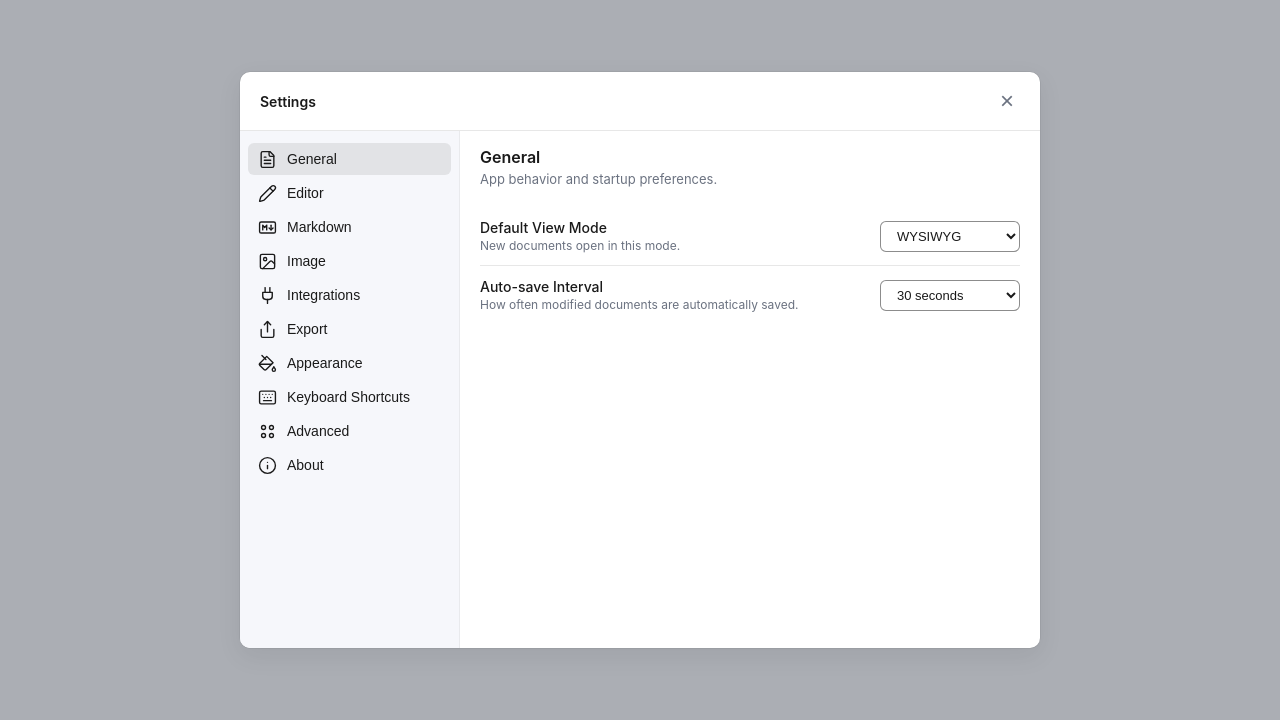
Test case: MCP-FIX-C2 server info renders only with a bound port › C2-01 launch starting with no port shows no Listening-on row and no port hint
The image size is (1280, 720).
Click the button "Integrations" at (350, 295), box [248,279,451,311]
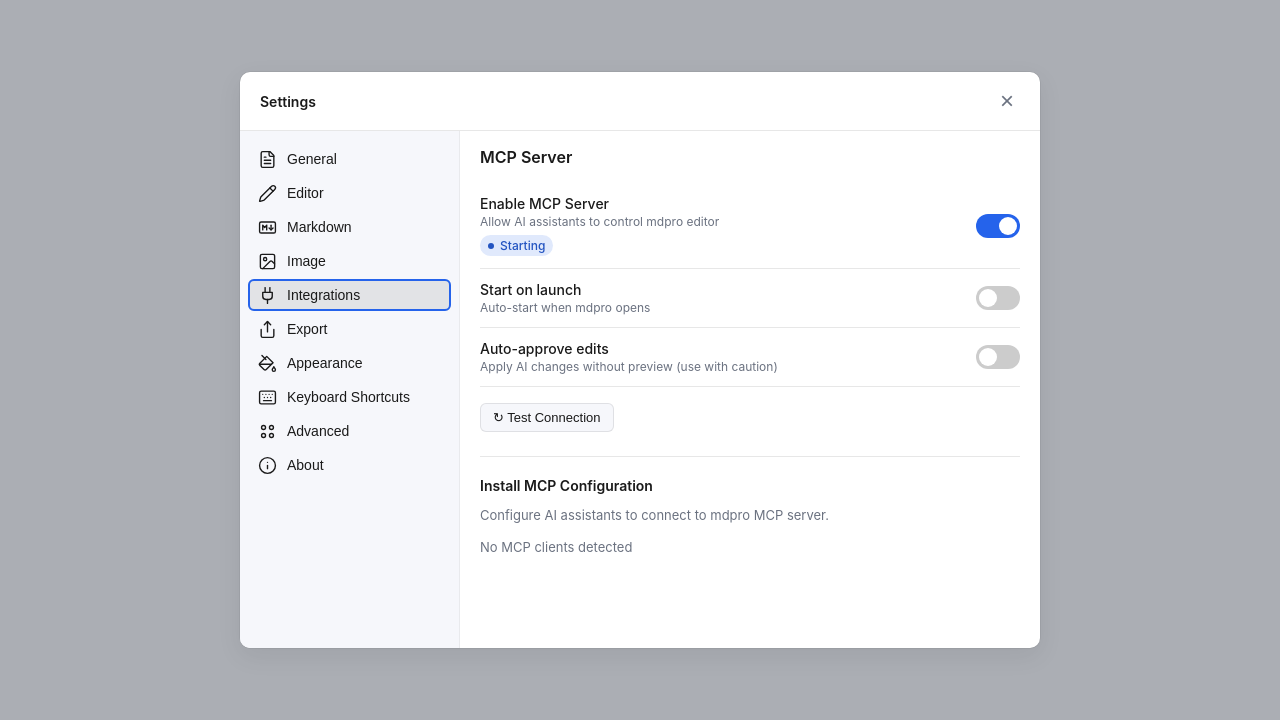
Expected: the switch labelled "Enable MCP Server" is shown, [976,214,1020,238]
Expected: the message "Starting" is shown, [480,235,553,256]
